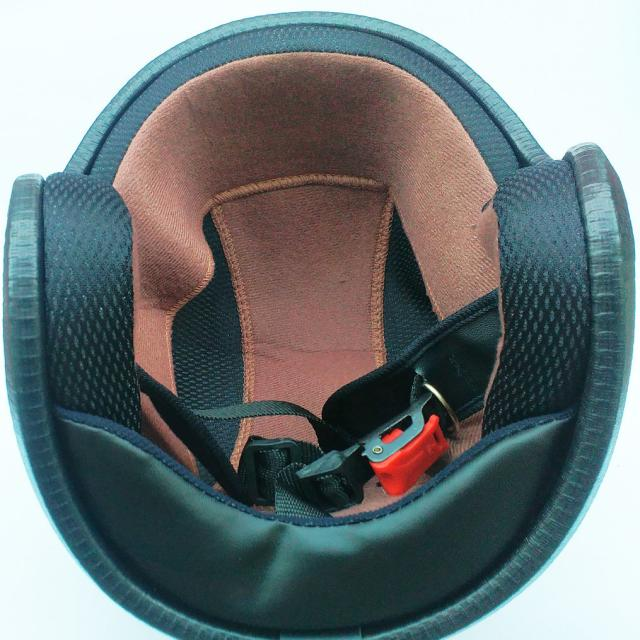Helm: (5, 0, 638, 640)
